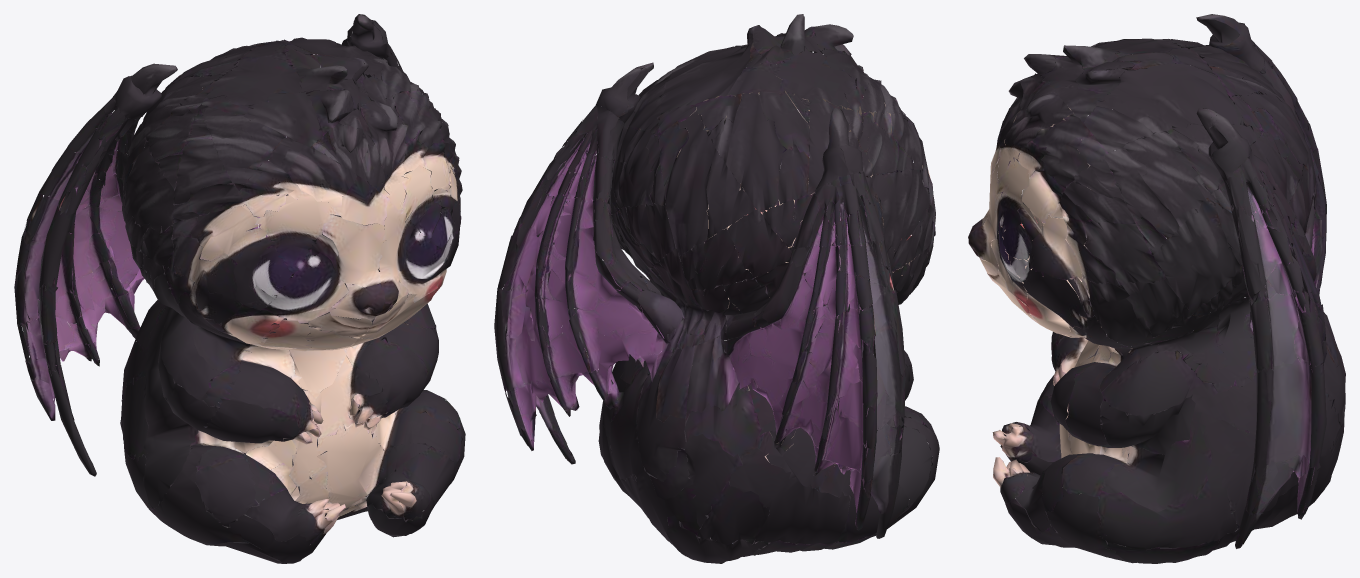
3 views of the same model, side by side, from view 1: azimuth 30°, elevation 25°; view 2: azimuth 150°, elevation 25°; view 3: azimuth 270°, elevation 25° (orthographic).
Visible parts, largest first — view 1: Mesh_0; view 2: Mesh_0; view 3: Mesh_0.
Part boxes in pixels (x1,y1,x2,y2): Mesh_0: (14, 14, 465, 563); Mesh_0: (494, 14, 939, 563); Mesh_0: (968, 14, 1345, 563).
Size of the model in its own units: 1.61 by 1.9 by 1.34.
Materials: 1 (1 with a texture image).
